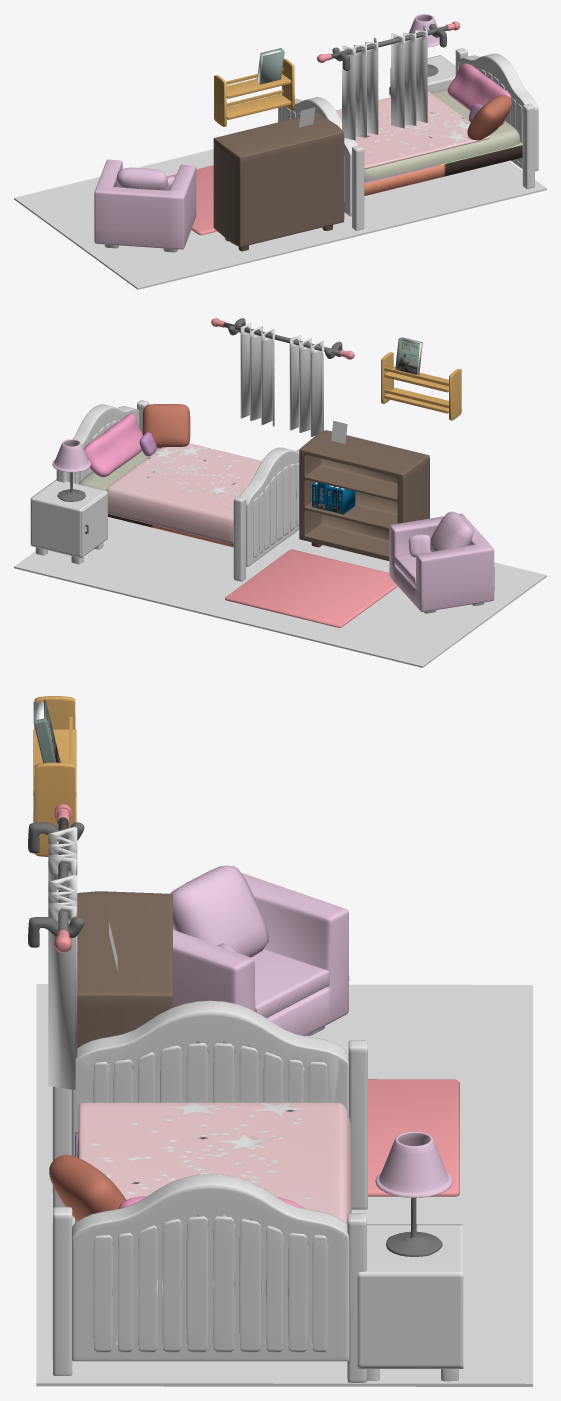
File: Bed room.fbx
The picture shows the model from 3 angles, top to bottom: view 1: azimuth 30°, elevation 25°; view 2: azimuth 150°, elevation 25°; view 3: azimuth 270°, elevation 25°; orthographic projection. The views are drawn at different scales.
Visible parts, largest first — view 1: łóżko, walls.002, regał, firanki, fotel, półka, Carpet, fotel.001, Night stand, Cube.002, lampka; view 2: walls.002, łóżko, regał, Carpet, firanki, fotel, Night stand, półka, lampka, fotel.001, Cube.003, Cube.002 (+1 smaller); view 3: łóżko, walls.002, fotel, Night stand, regał, firanki, Carpet, fotel.001, lampka, półka, Cube.002.
Part boxes in pixels (x1,y1,x2,y2): łóżko: (278, 48, 538, 230); walls.002: (14, 149, 546, 289); regał: (213, 113, 344, 251); firanki: (317, 21, 460, 140); fotel: (94, 159, 196, 252); półka: (214, 58, 294, 126); Carpet: (167, 165, 217, 235); fotel.001: (116, 167, 169, 190); Night stand: (389, 55, 455, 96); Cube.002: (257, 48, 284, 84); lampka: (409, 14, 439, 76); walls.002: (14, 517, 546, 667); łóżko: (56, 400, 299, 581); regał: (299, 430, 429, 560); Carpet: (225, 549, 397, 627); firanki: (211, 318, 354, 436); fotel: (389, 513, 494, 613); Night stand: (30, 479, 107, 564); półka: (381, 352, 461, 420); lampka: (52, 439, 90, 501); fotel.001: (430, 511, 473, 551); Cube.003: (312, 481, 355, 514); Cube.002: (395, 337, 422, 375); łóżko: (49, 1000, 367, 1382); walls.002: (36, 984, 532, 1386); fotel: (173, 873, 349, 1035); Night stand: (357, 1224, 463, 1381); regał: (77, 891, 172, 1047); firanki: (28, 804, 84, 1089); Carpet: (368, 1079, 459, 1196); fotel.001: (170, 865, 269, 957); lampka: (375, 1131, 452, 1256); półka: (33, 696, 76, 856); Cube.002: (33, 699, 60, 762).
Size of the model in its own units: 5.04 by 2.41 by 2.69.
